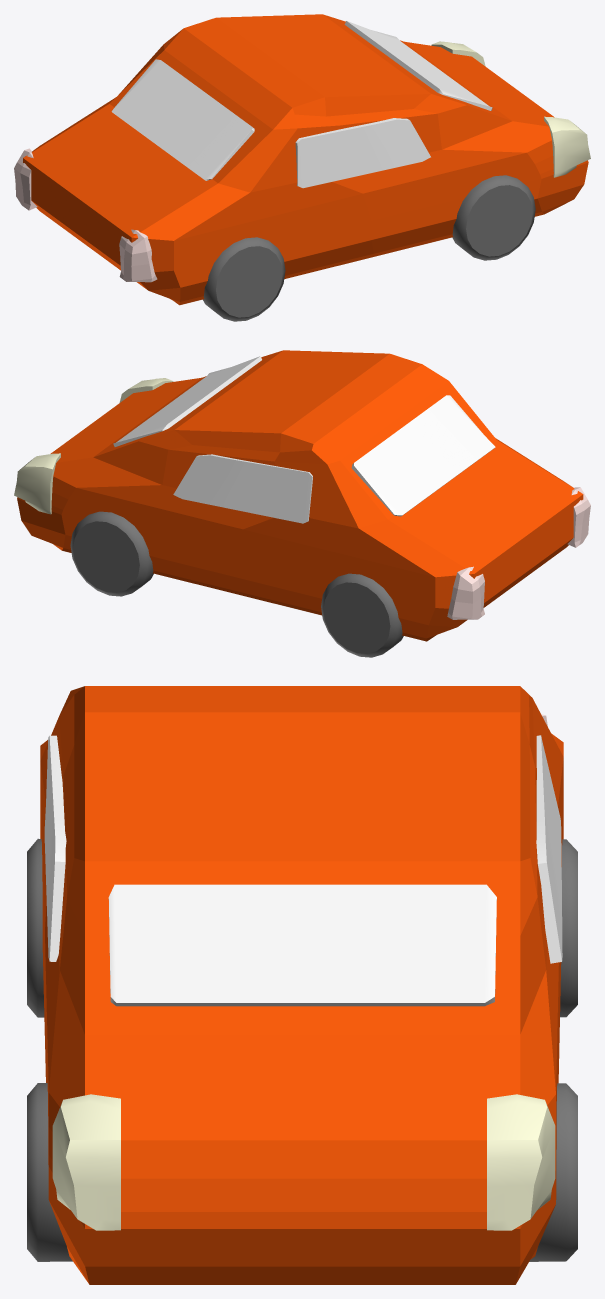
File: CarroRojo.fbx
3 views of the same model, one above another, from view 1: azimuth 30°, elevation 25°; view 2: azimuth 150°, elevation 25°; view 3: azimuth 270°, elevation 25° (orthographic). The views are drawn at different scales.
Parts seen in each view (by area): view 1: pCube1, pCube10, pCube8, pCylinder1, pCylinder2, pCube6, pCube11, pCube9; view 2: pCube1, pCube10, pCube12, pCylinder3, pCylinder4, pCube6, pCube11, pCube9; view 3: pCube1, pCube6, pCube9, pCylinder1, pCylinder3, pCube12, pCube8, pCylinder4, pCylinder2.
Part boxes in pixels (<box>): pCube1: <box>23,14,588,305</box>; pCube10: <box>111,59,254,180</box>; pCube8: <box>295,118,430,188</box>; pCylinder1: <box>452,175,535,260</box>; pCylinder2: <box>203,237,285,321</box>; pCube6: <box>344,21,492,110</box>; pCube11: <box>14,148,157,282</box>; pCube9: <box>431,41,590,177</box>; pCube1: <box>17,350,583,641</box>; pCube10: <box>351,395,495,516</box>; pCube12: <box>173,454,312,523</box>; pCylinder3: <box>70,511,153,596</box>; pCylinder4: <box>321,573,403,657</box>; pCube6: <box>113,356,261,446</box>; pCube11: <box>447,487,590,619</box>; pCube9: <box>14,378,173,514</box>; pCube1: <box>40,686,563,1284</box>; pCube6: <box>108,884,496,1006</box>; pCube9: <box>52,1094,555,1230</box>; pCylinder1: <box>27,1083,72,1261</box>; pCylinder3: <box>529,1083,577,1261</box>; pCube12: <box>536,735,562,963</box>; pCube8: <box>44,735,66,961</box>; pCylinder4: <box>560,839,577,1017</box>; pCylinder2: <box>27,838,44,1017</box>.
Bounding box in the file's own units: 21.52 × 8.56 × 11.09.
